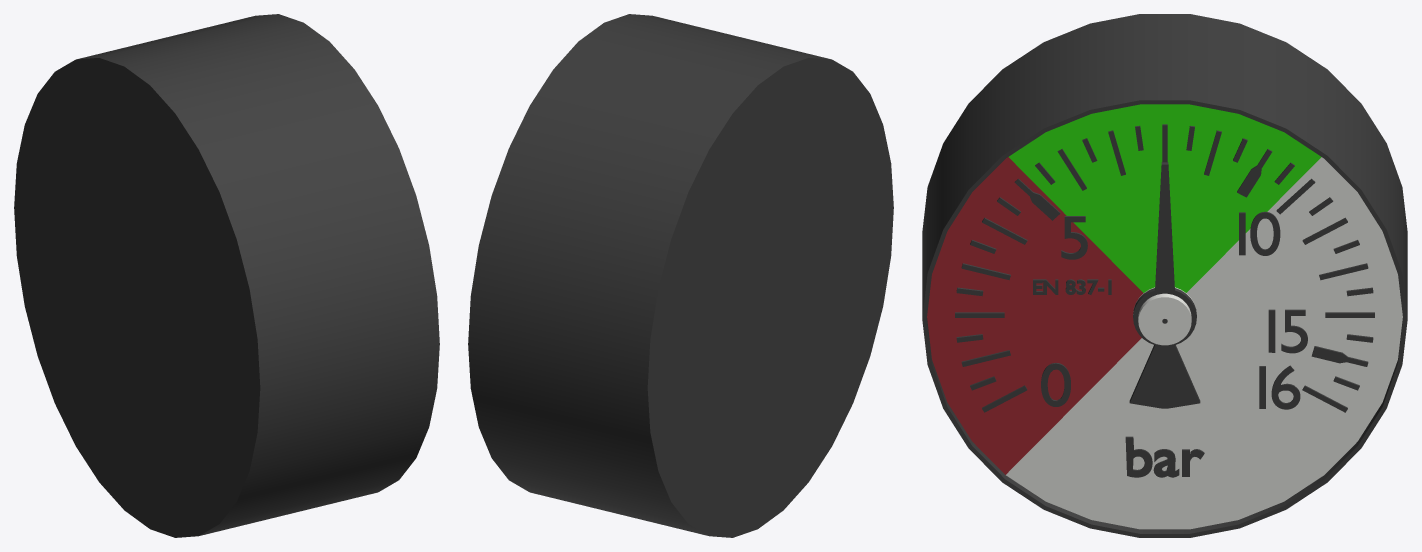
The model's file is ManometroLupa.fbx.
3 renders of one model, left to right at view 1: azimuth 30°, elevation 25°; view 2: azimuth 150°, elevation 25°; view 3: azimuth 270°, elevation 25°, orthographic.
Visible parts, largest first — view 1: ManometroLupa; view 2: ManometroLupa; view 3: ManometroLupa, AgujaManometroLupa.
Part boxes in pixels (left/top/right/bottom): ManometroLupa: left=14, top=14, right=439, bottom=537; ManometroLupa: left=468, top=14, right=893, bottom=537; ManometroLupa: left=922, top=14, right=1407, bottom=537; AgujaManometroLupa: left=1129, top=162, right=1200, bottom=408.
Size of the model in its own units: 1.43 by 3.3 by 3.31.
